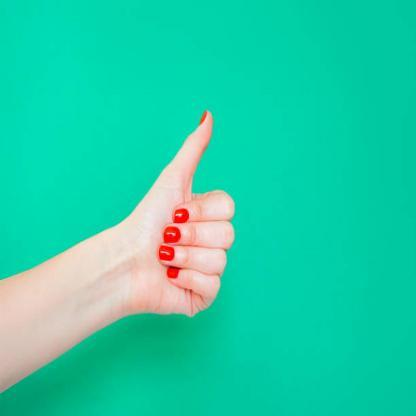thumb_up: (134, 105, 238, 320)
